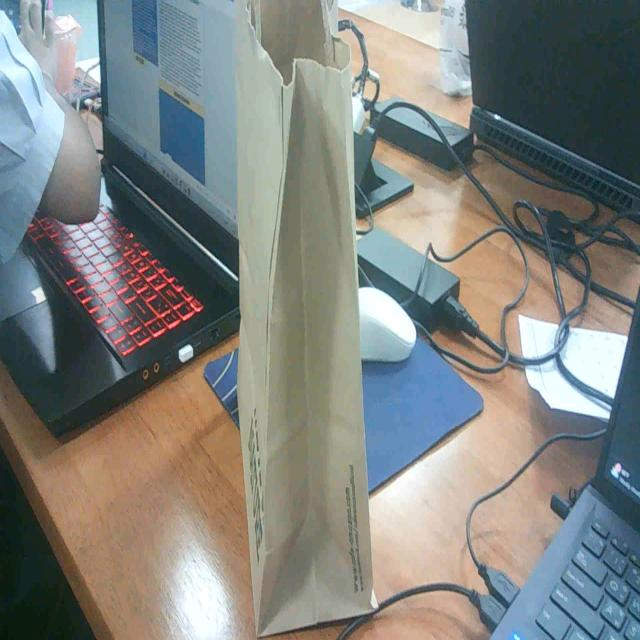bag: (214, 18, 397, 635)
